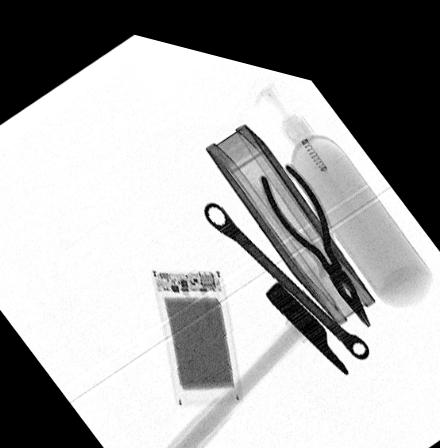Hammer: (155, 266, 347, 448)
Pliers: (255, 146, 370, 308)
Powerbank: (147, 260, 241, 395)
Wrench: (201, 190, 369, 339)
